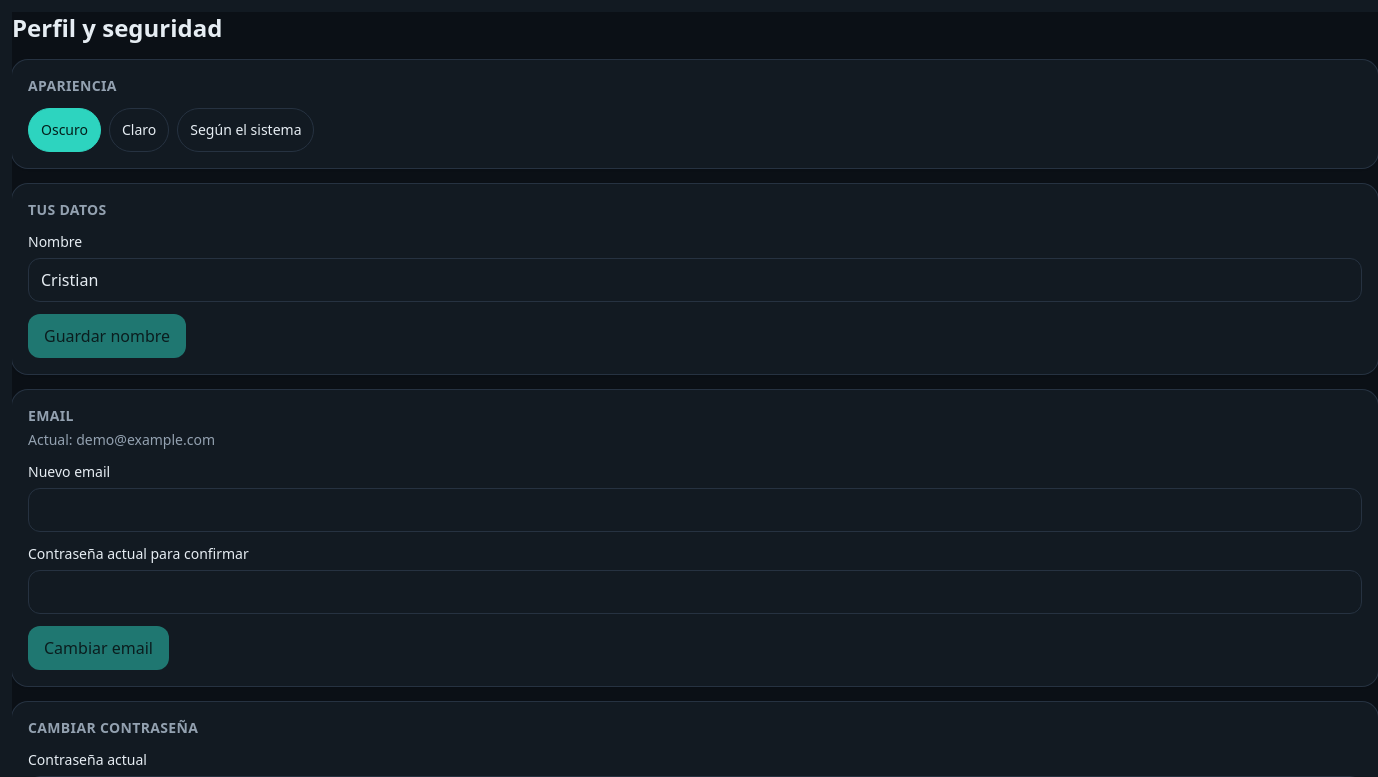
Test: ProfilePage — account › changes the email with the current password and shows the server value
In the field labelled "Nuevo email": point(695, 510) [28, 488, 1362, 532], type "Nuevo@Correo.co"
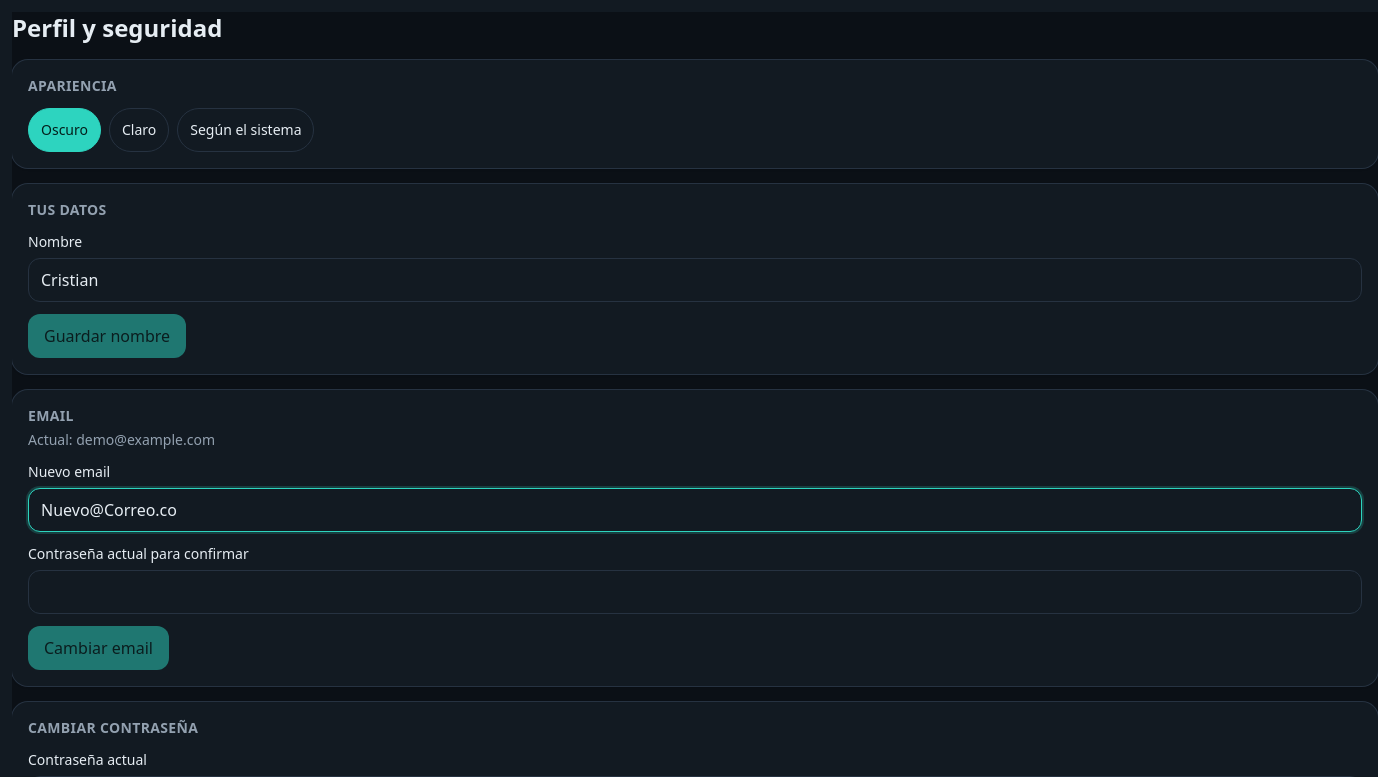
In the password field labelled "Contraseña actual para confirmar": point(695, 592) [28, 570, 1362, 614], type "clave-segura-123"
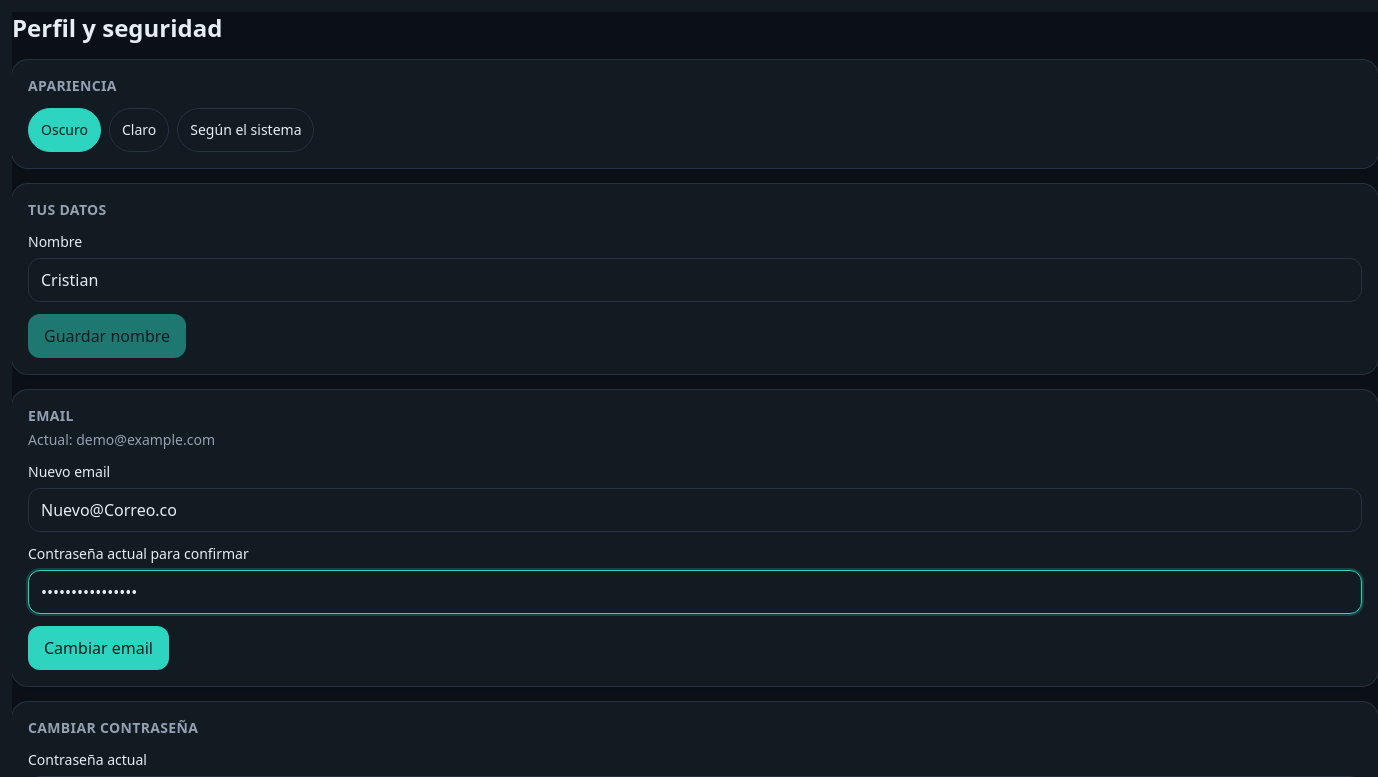
Click the button "Cambiar email": point(98, 648) [28, 626, 169, 670]
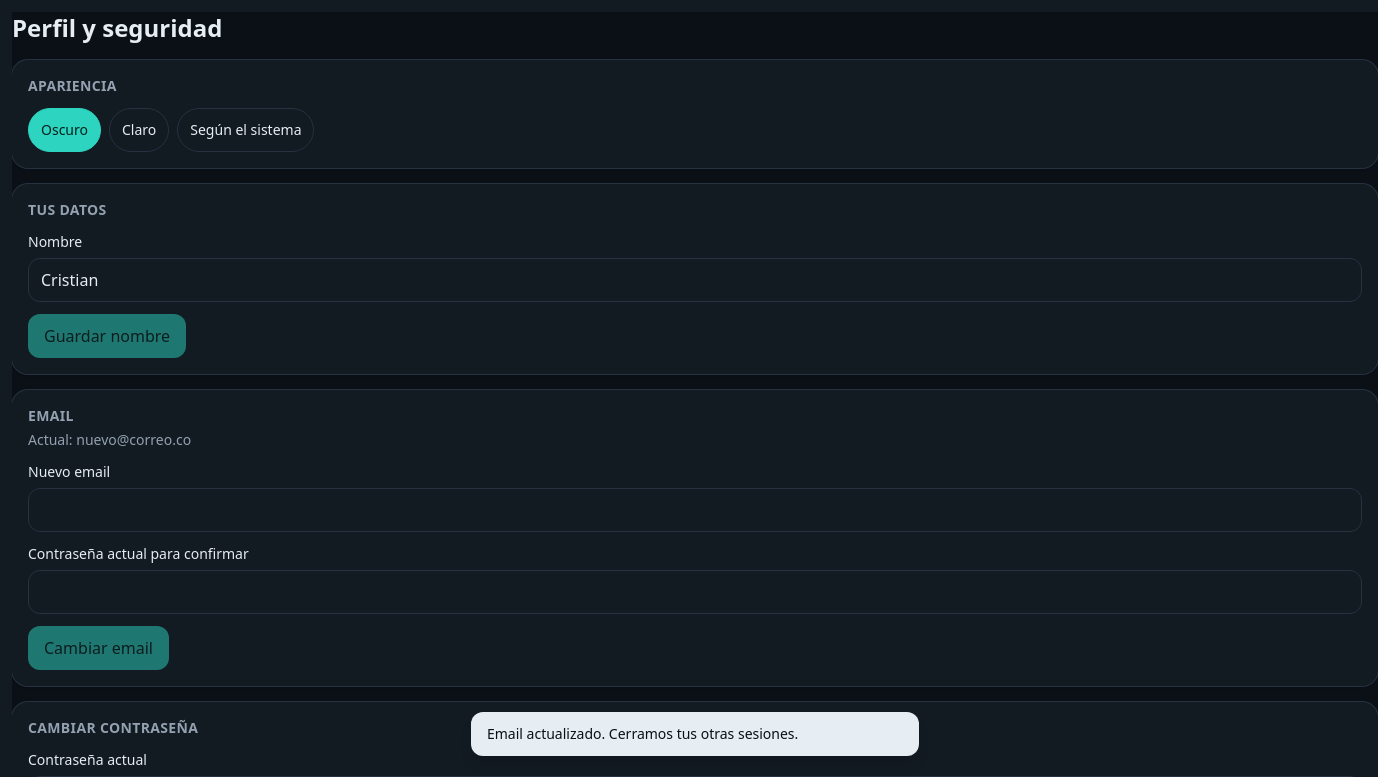
Expected: the text "Actual: nuevo@correo.co" is shown, [28, 430, 191, 449]
Expected: the text "Email actualizado. Cerramos tus otras sesiones." is shown, [471, 712, 919, 756]
